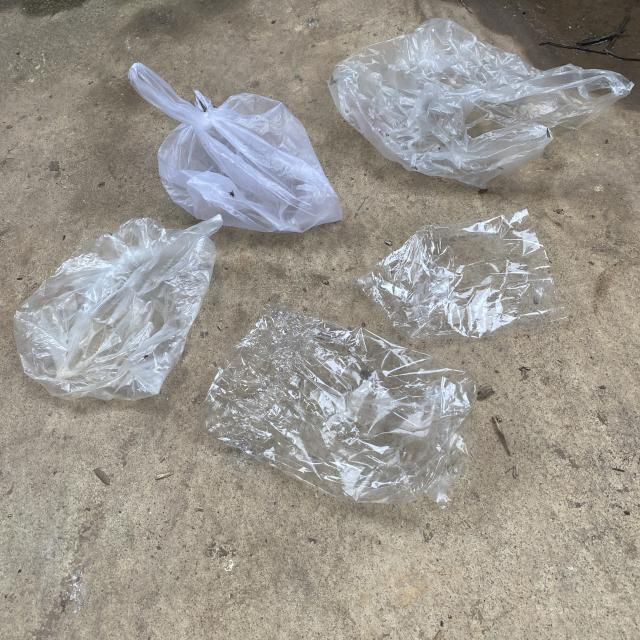Single-layer Plastic: (202, 301, 476, 504), (329, 19, 632, 189), (14, 215, 222, 400), (128, 62, 342, 232), (358, 209, 565, 339)
